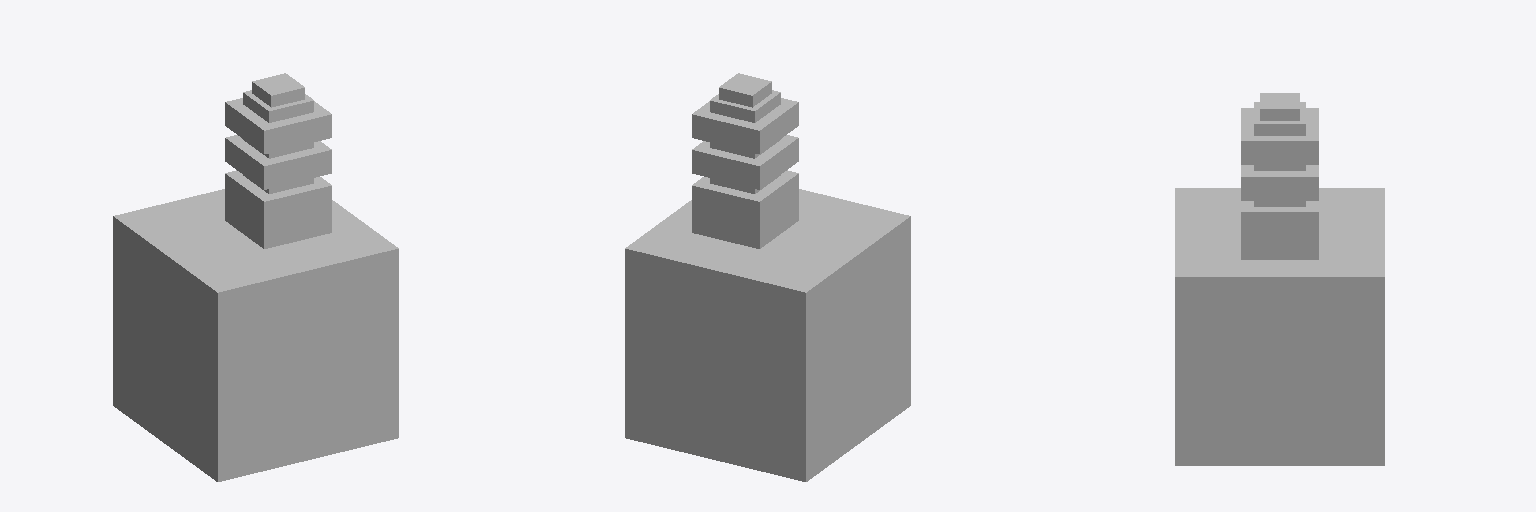
Rendered from autotransformer_part_redstone.obj.
3 renders of one model, left to right at view 1: azimuth 30°, elevation 25°; view 2: azimuth 150°, elevation 25°; view 3: azimuth 270°, elevation 25°, orthographic.
Parts seen in each view (by area): view 1: cube; view 2: cube; view 3: cube.
Part boxes in pixels (x1,y1,x2,y2): cube: (113, 73, 398, 481); cube: (625, 73, 910, 481); cube: (1175, 93, 1384, 465).
Bounding box in the file's own units: 1 × 1.75 × 1.